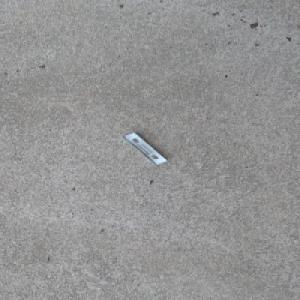ClampPart: (120, 131, 168, 166)
